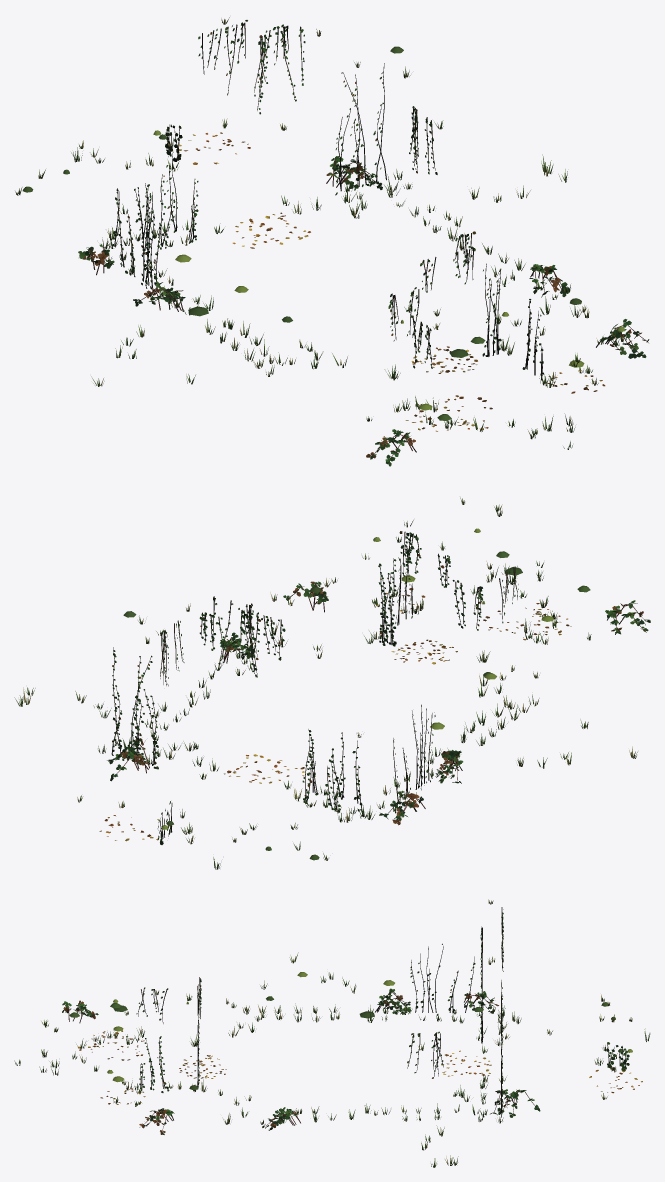
Rendered from hollow_crypt_entrance_growth.glb.
3 views of the same model, one above another, from view 1: azimuth 30°, elevation 25°; view 2: azimuth 150°, elevation 25°; view 3: azimuth 270°, elevation 25° (orthographic). The views are drawn at different scales.
Parts seen in each view (by area): view 1: Entrance_Growth; view 2: Entrance_Growth; view 3: Entrance_Growth.
Boxes of the visible parts, bbox=[...] form: Entrance_Growth: bbox=[15, 17, 649, 466]; Entrance_Growth: bbox=[14, 497, 650, 869]; Entrance_Growth: bbox=[14, 899, 650, 1167].
Size of the model in its own units: 35.49 by 13.09 by 45.88.
